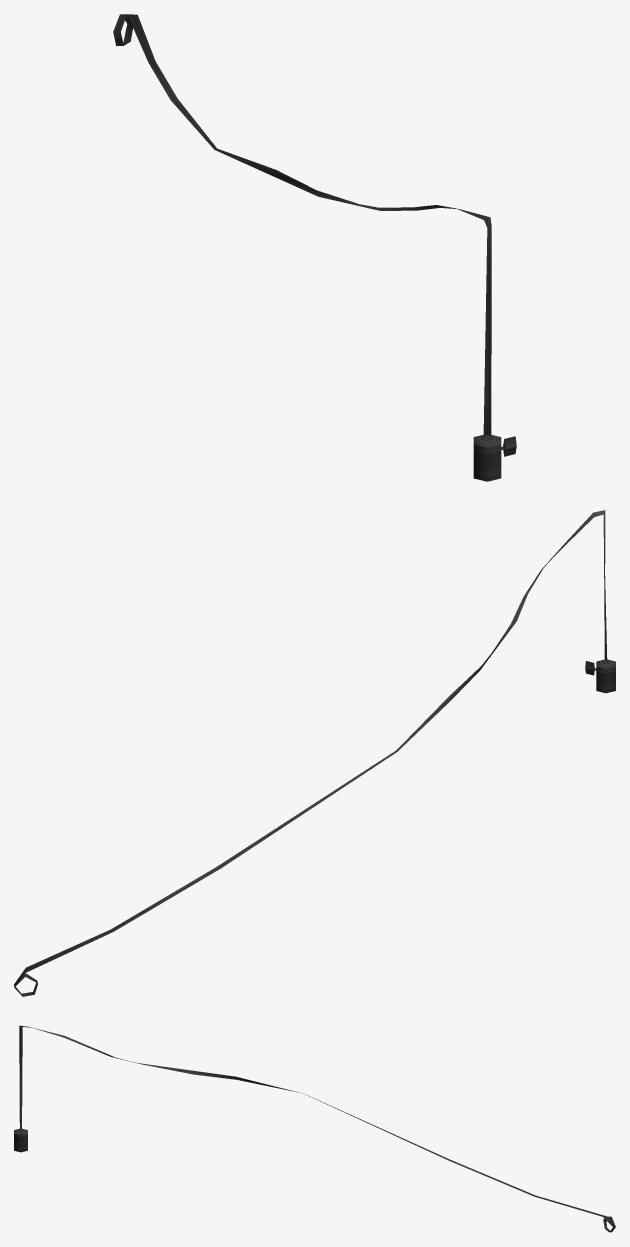
The model's file is jsf_4P_Light_s03_b.fbx.
The picture shows the model from 3 angles, top to bottom: view 1: azimuth 30°, elevation 25°; view 2: azimuth 150°, elevation 25°; view 3: azimuth 270°, elevation 25°; orthographic projection. The views are drawn at different scales.
Parts seen in each view (by area): view 1: jsf_4P_Light_s03_b; view 2: jsf_4P_Light_s03_b; view 3: jsf_4P_Light_s03_b.
Part boxes in pixels (x1,y1,x2,y2): jsf_4P_Light_s03_b: (113,14,516,481); jsf_4P_Light_s03_b: (14,510,615,996); jsf_4P_Light_s03_b: (14,1025,615,1232).
Size of the model in its own units: 29.97 by 34.6 by 124.
